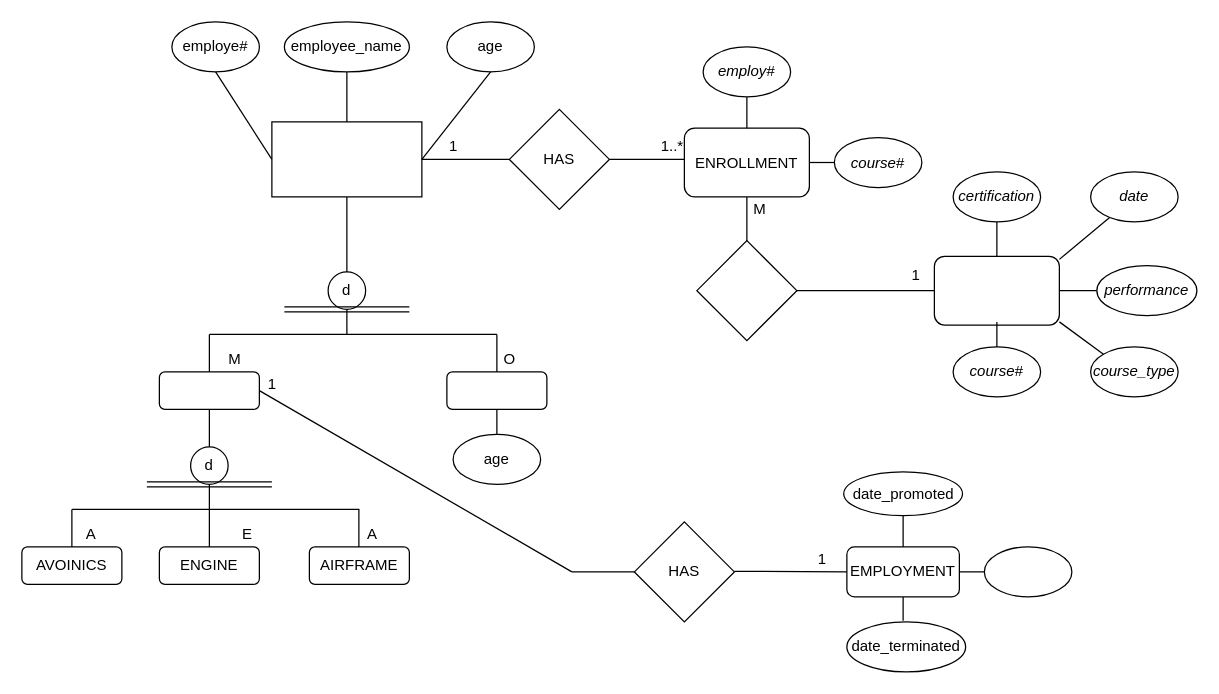
The diagram is 1219 pixels wide and 694 high, and some of its shapes have lost their labels. Each missing label, with the centre of its shape:
"COURSE" belongs at pixel 996 290.
"date_hired" belongs at pixel 1027 571.
"EMPLOYEE" belongs at pixel 346 159.
"MECHANIC" belongs at pixel 208 390.
"other" belongs at pixel 496 390.
"provides" belongs at pixel 746 290.
